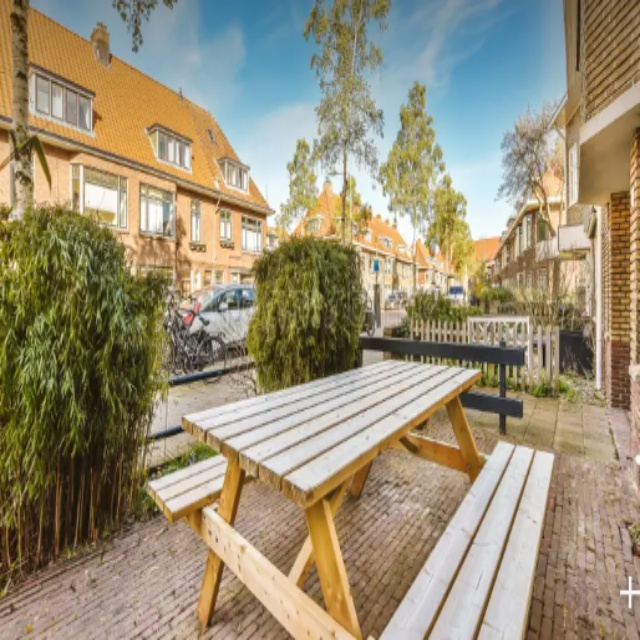obstacle: (137, 352, 557, 638)
